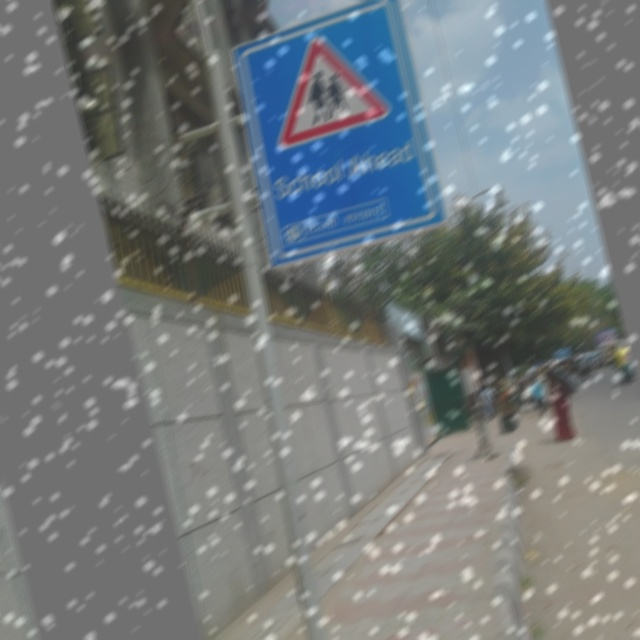School_Ahead: (251, 21, 406, 154)
